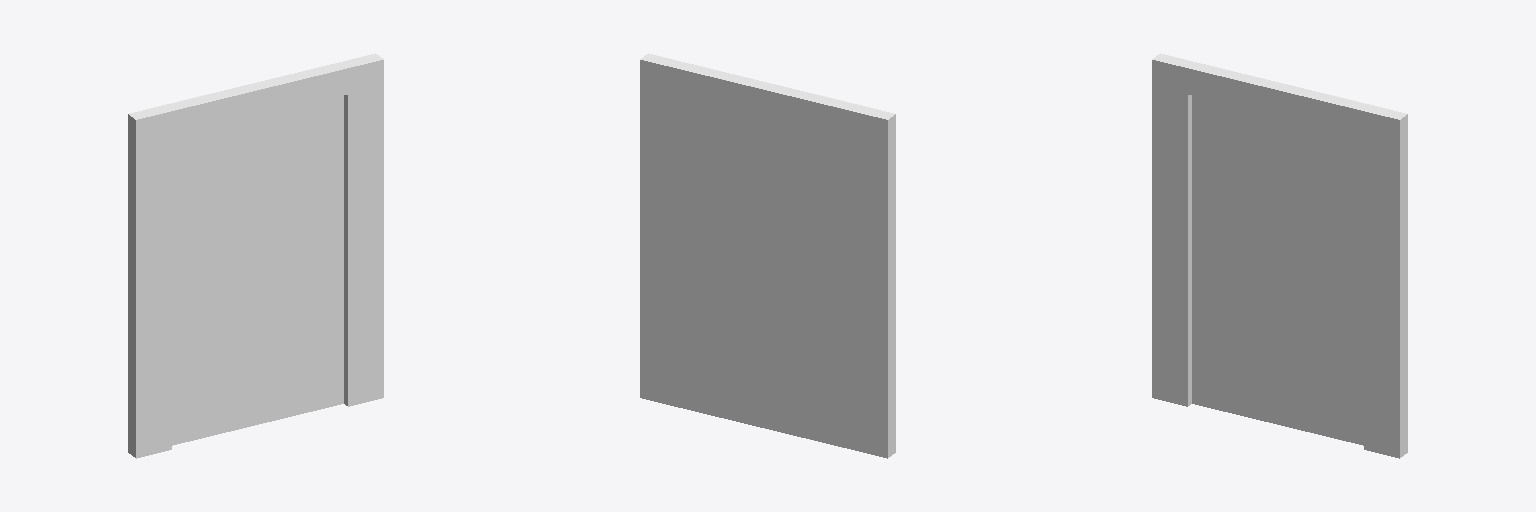
Rendered from Elevator.obj.
3 views of the same model, side by side, from view 1: azimuth 30°, elevation 25°; view 2: azimuth 150°, elevation 25°; view 3: azimuth 330°, elevation 25° (orthographic).
Visible parts, largest first — view 1: object 1; view 2: object 1; view 3: object 1.
Part boxes in pixels (bbox=[...]): object 1: bbox=[128, 53, 383, 458]; object 1: bbox=[640, 53, 895, 458]; object 1: bbox=[1152, 53, 1407, 458].
Bounding box in the file's own units: 6.9 × 9 × 0.4.